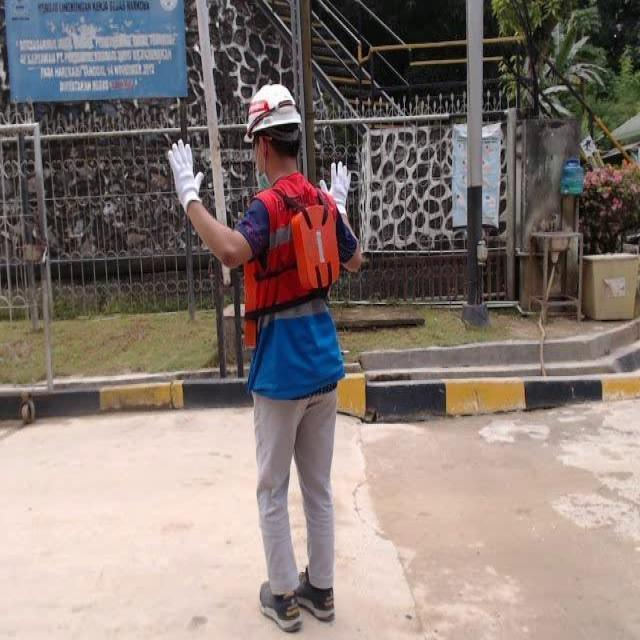Vest: (293, 199, 349, 297)
